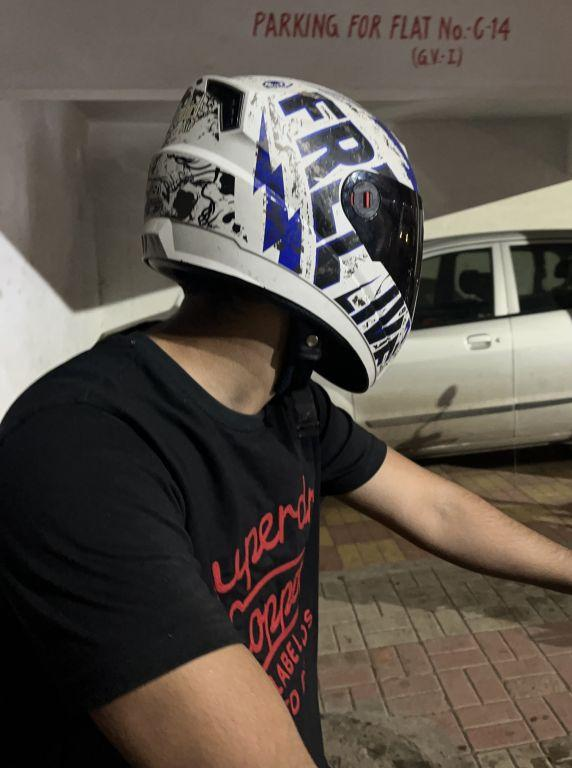helmet: (132, 57, 429, 402)
